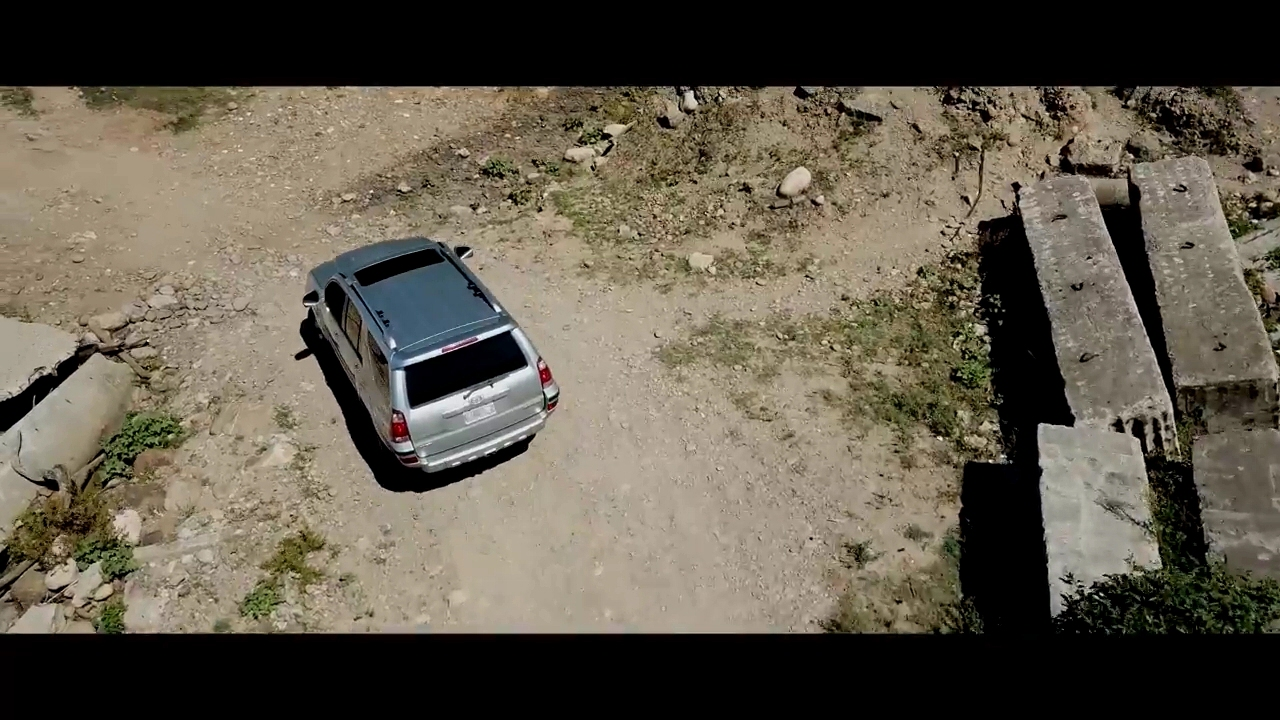araba: (303, 238, 559, 471)
